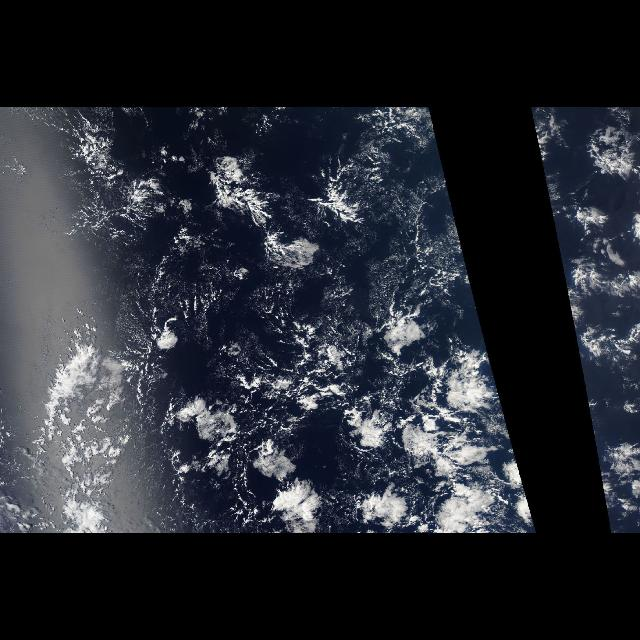Flower: (136, 301, 536, 533)
Gravel: (27, 326, 140, 530)
Sugar: (325, 142, 477, 308)
